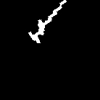double_crochet: (29, 0, 65, 42)
